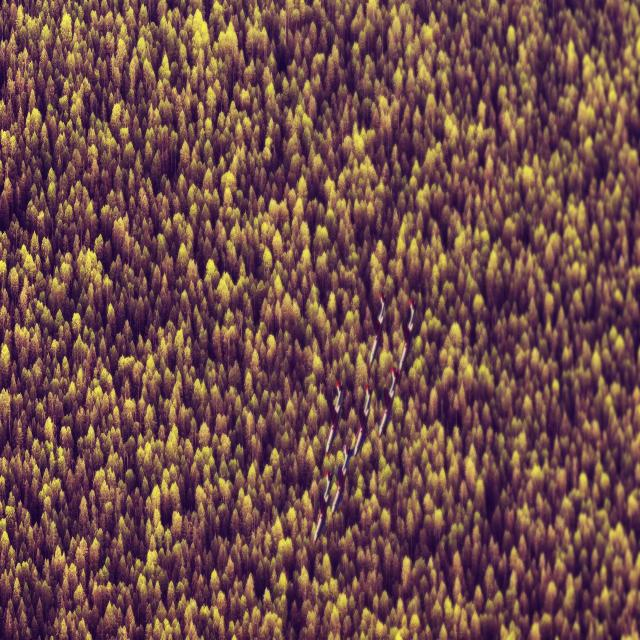airplane: (312, 467, 335, 544), (323, 381, 346, 454), (367, 292, 389, 368), (331, 444, 355, 512), (378, 367, 400, 439), (353, 386, 374, 457), (399, 298, 419, 370)
